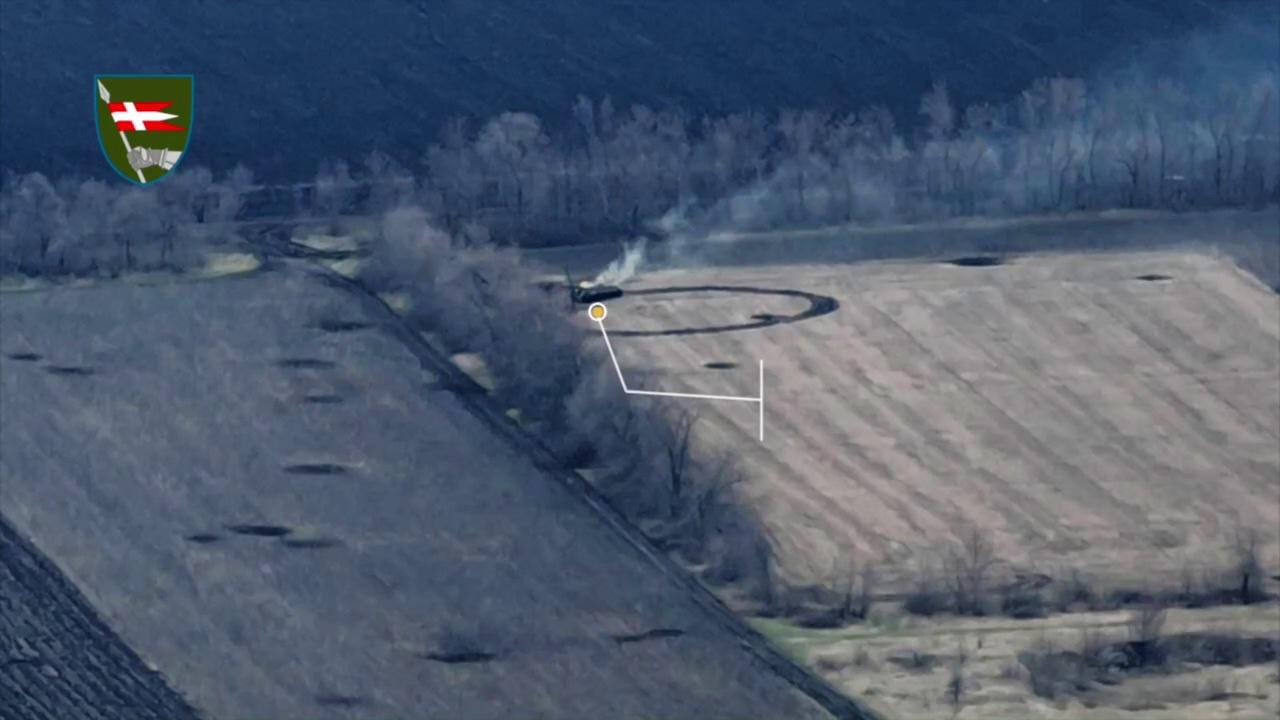vehicle: (564, 266, 620, 300)
